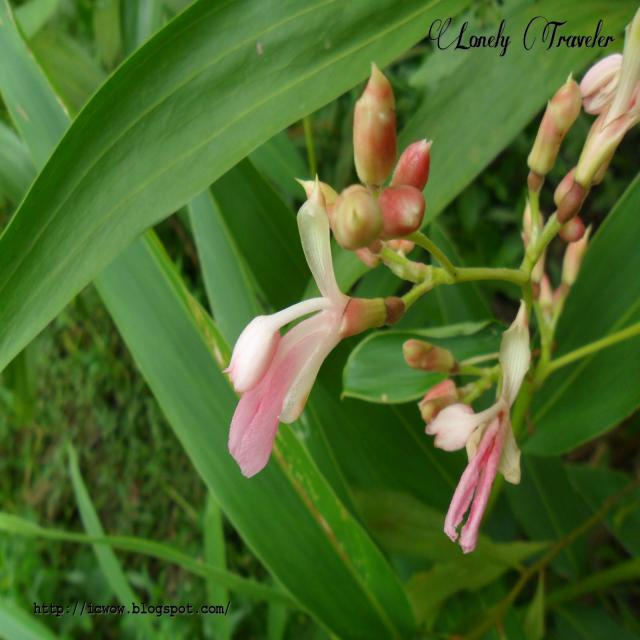Aquatic-Ginger: (223, 62, 433, 480), (402, 298, 532, 554), (520, 6, 640, 252)
